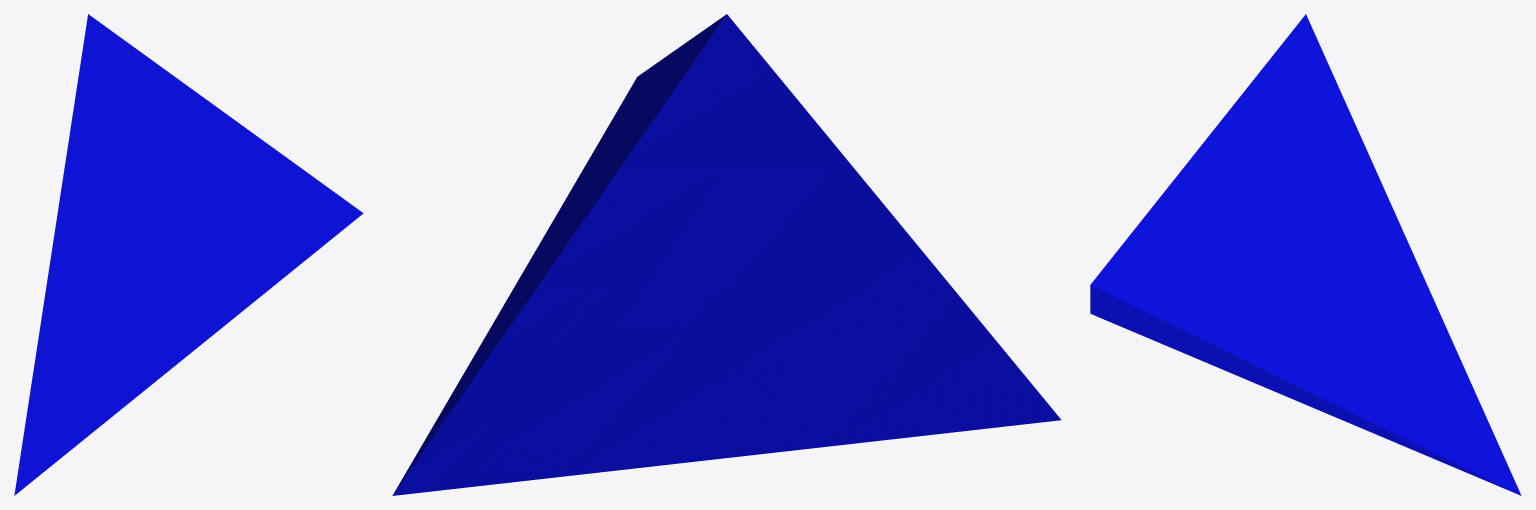
File: Portal_inner_triangle.glb
The picture shows the model from 3 angles, left to right: view 1: azimuth 30°, elevation 25°; view 2: azimuth 150°, elevation 25°; view 3: azimuth 270°, elevation 25°; orthographic projection. The views are drawn at different scales.
Parts seen in each view (by area): view 1: Portal_inner_triangle; view 2: Portal_inner_triangle; view 3: Portal_inner_triangle.
Part boxes in pixels (x1,y1,x2,y2): Portal_inner_triangle: (14,14,363,495); Portal_inner_triangle: (392,14,1061,495); Portal_inner_triangle: (1090,14,1521,495).
Bounding box in the file's own units: 0.0926 × 0.0926 × 0.0926.
